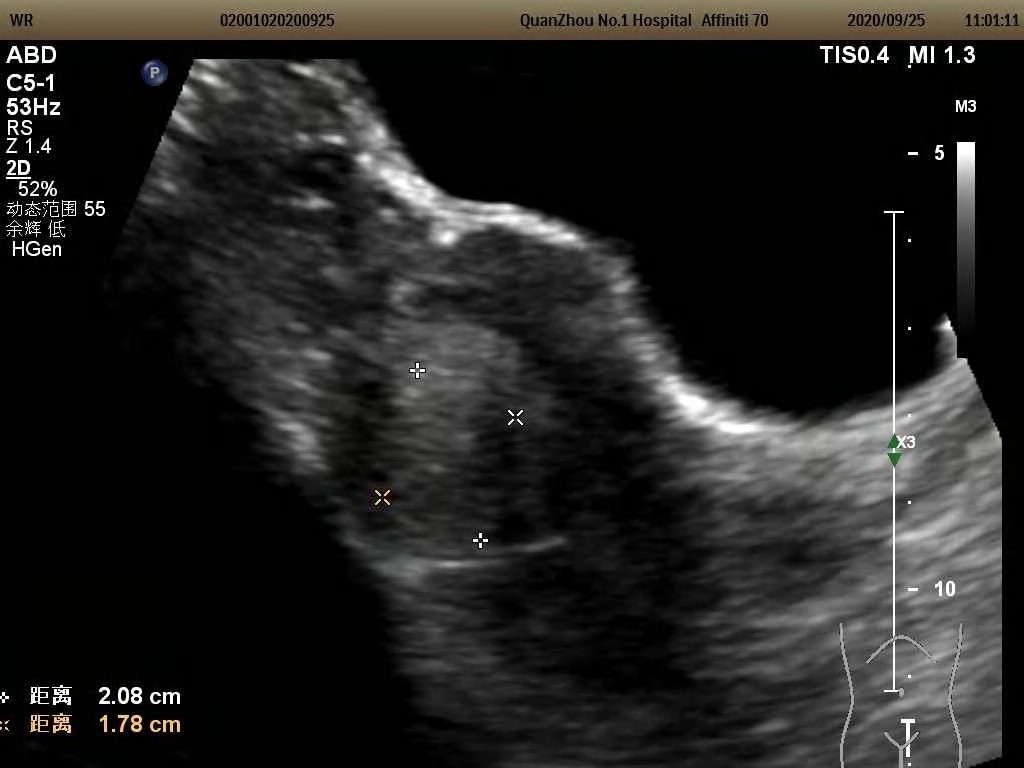肌瘤: (390, 373, 487, 535)
